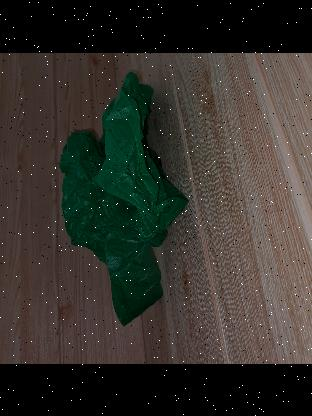Others: (57, 70, 187, 326)
